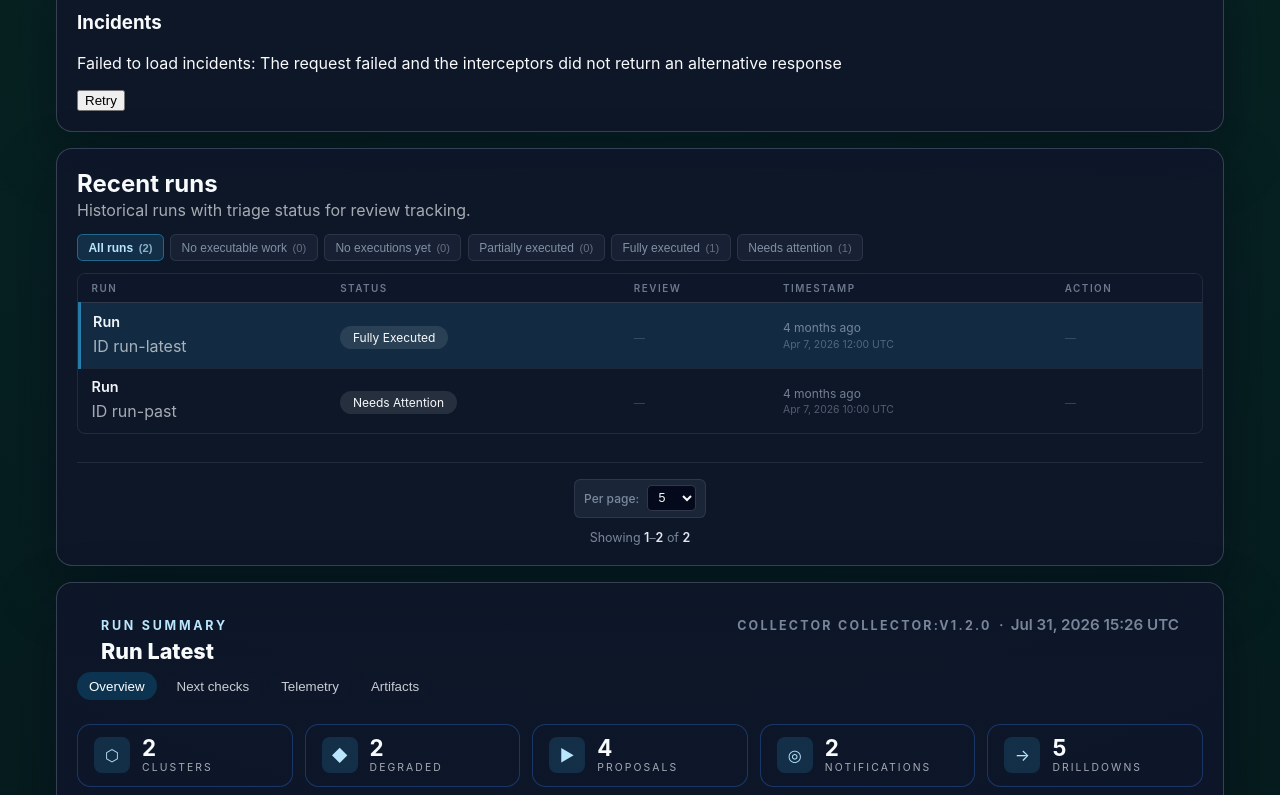
Test: Selected-run immediate refresh regression › Scenario C: switching between latest and past run updates content correctly both ways
The width and height of the screenshot is (1280, 795).
(page scrolled)
What coordinates should you click on to do the following:
click the button with aria-label "Run undefined, unreviewed, selected: false"
I would click on:
 (641, 400)
Its box is [80, 368, 1202, 433].
(page scrolled)
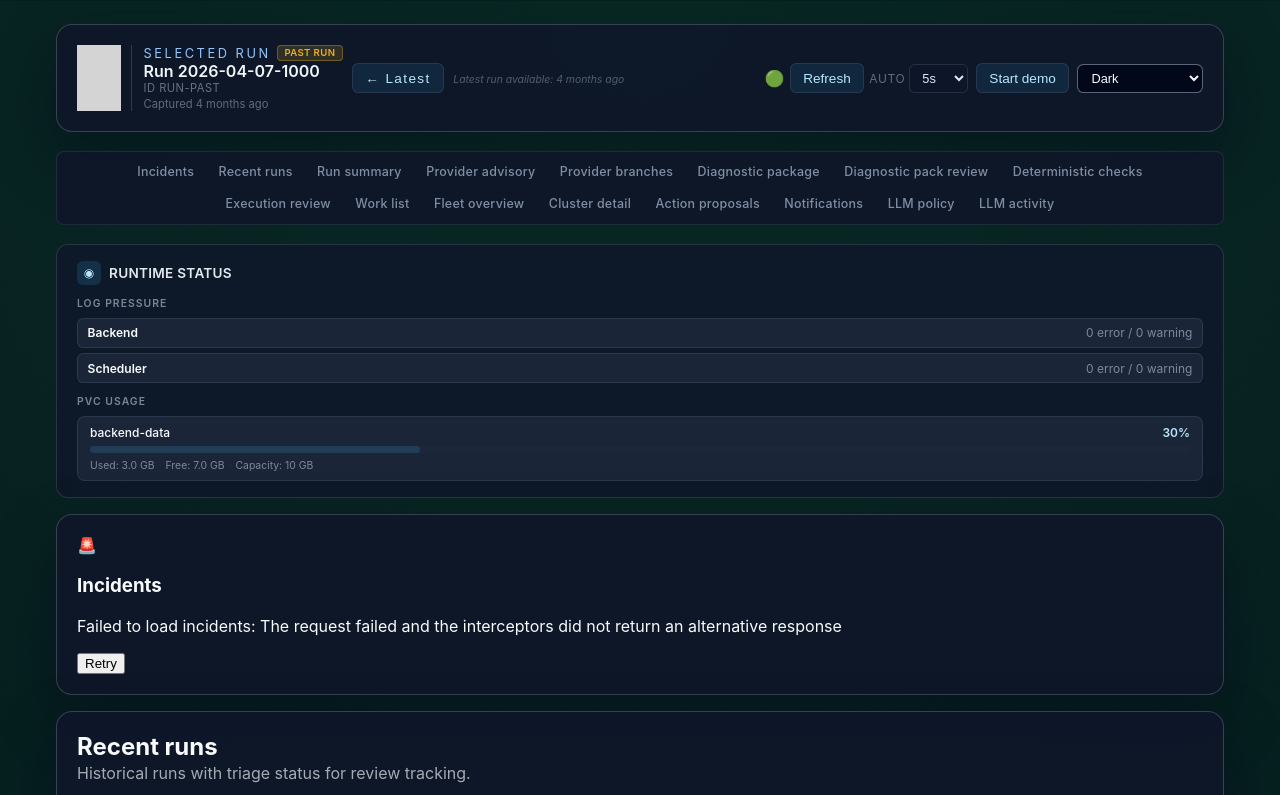
Expected: the button "← Latest" is shown
What coordinates should you click on to do the following:
click the button "← Latest"
I would click on:
 (398, 78)
Its box is [352, 63, 444, 93].
(page scrolled)
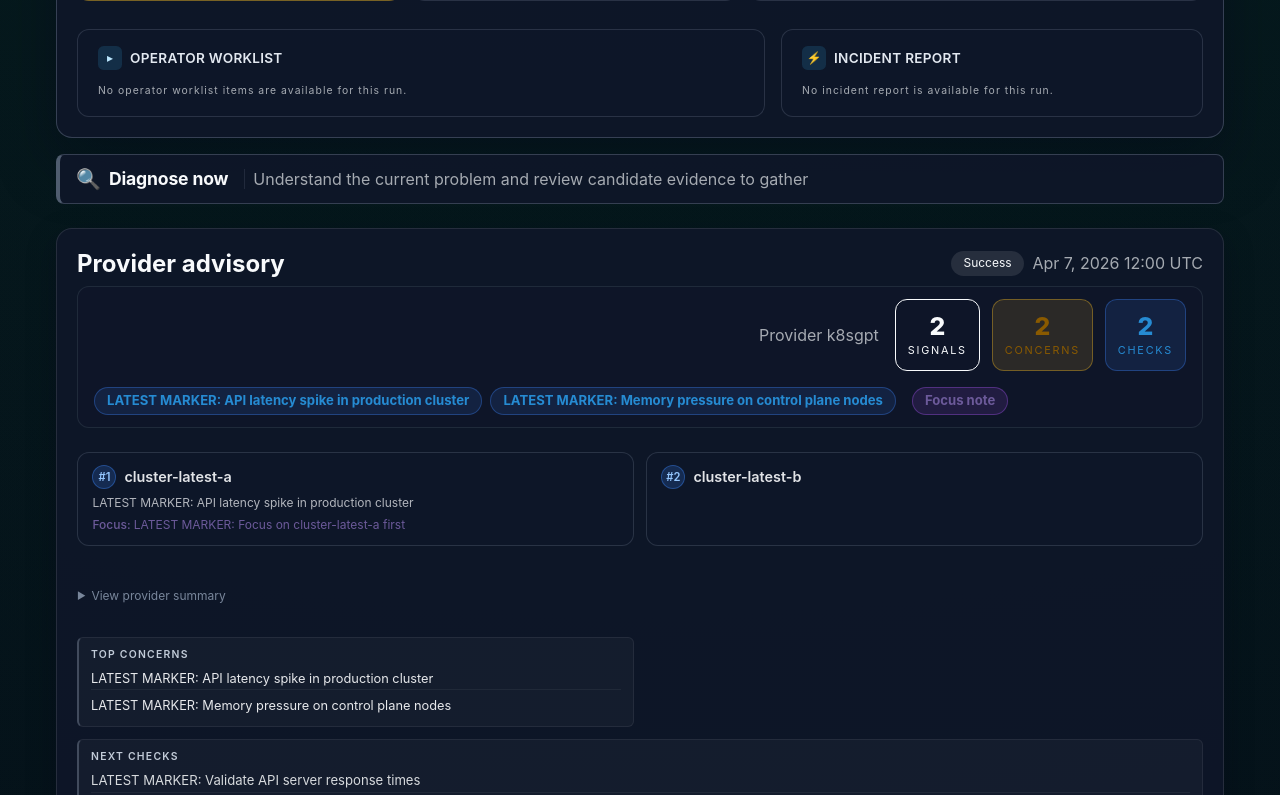
Expected: the text "LATEST MARKER: API latency spike in production cluster" in the row of "Focus note" is shown, [107, 392, 470, 408]
Expected: the text "LATEST MARKER: Memory pressure on control plane nodes" is shown, [490, 387, 896, 415]
